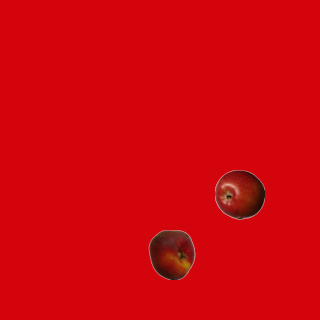Apple Braeburn: (214, 169, 264, 219)
Nectarine Flat: (146, 229, 196, 279)
